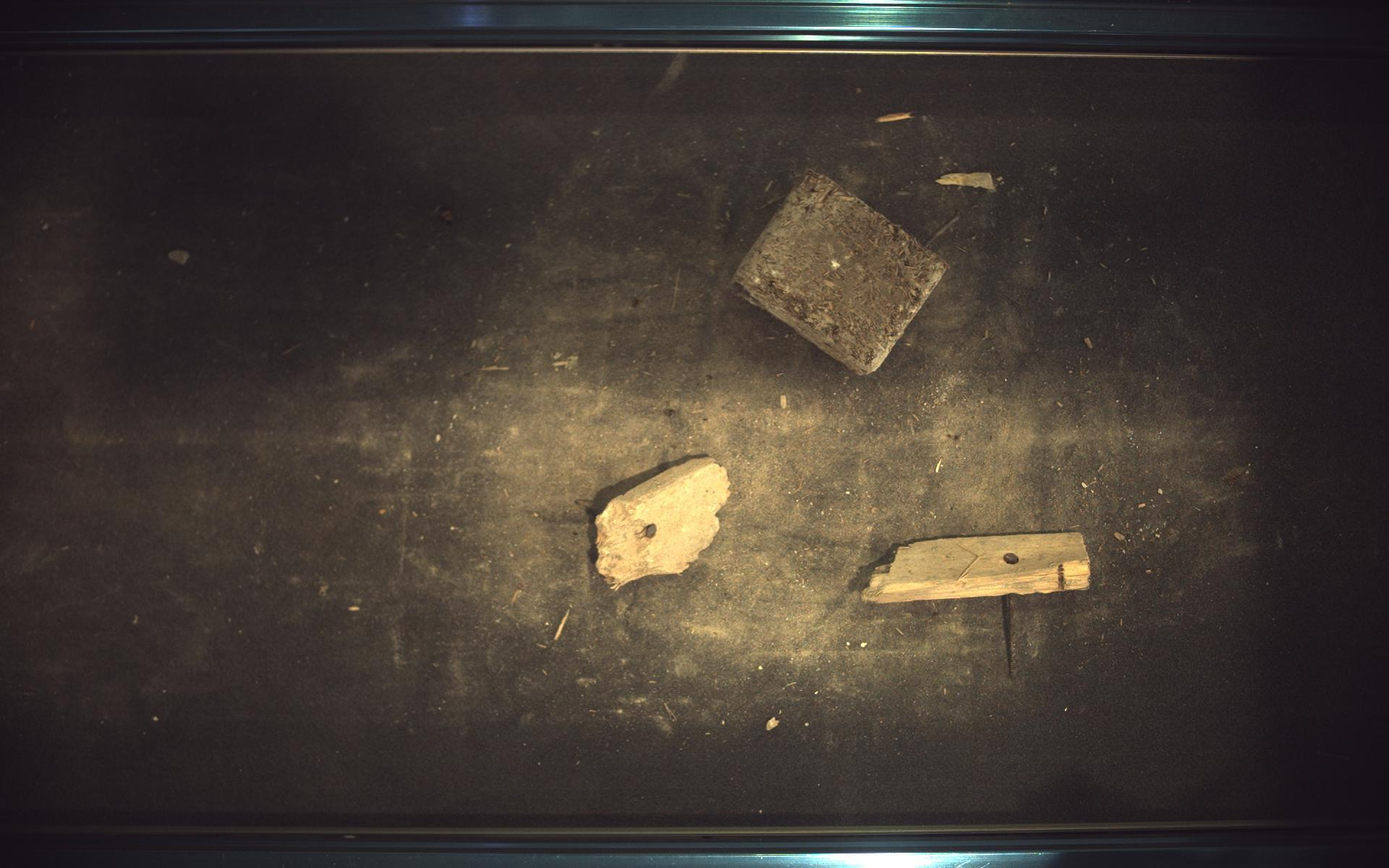wood: (734, 169, 949, 374), (864, 532, 1092, 677), (595, 458, 731, 590)
